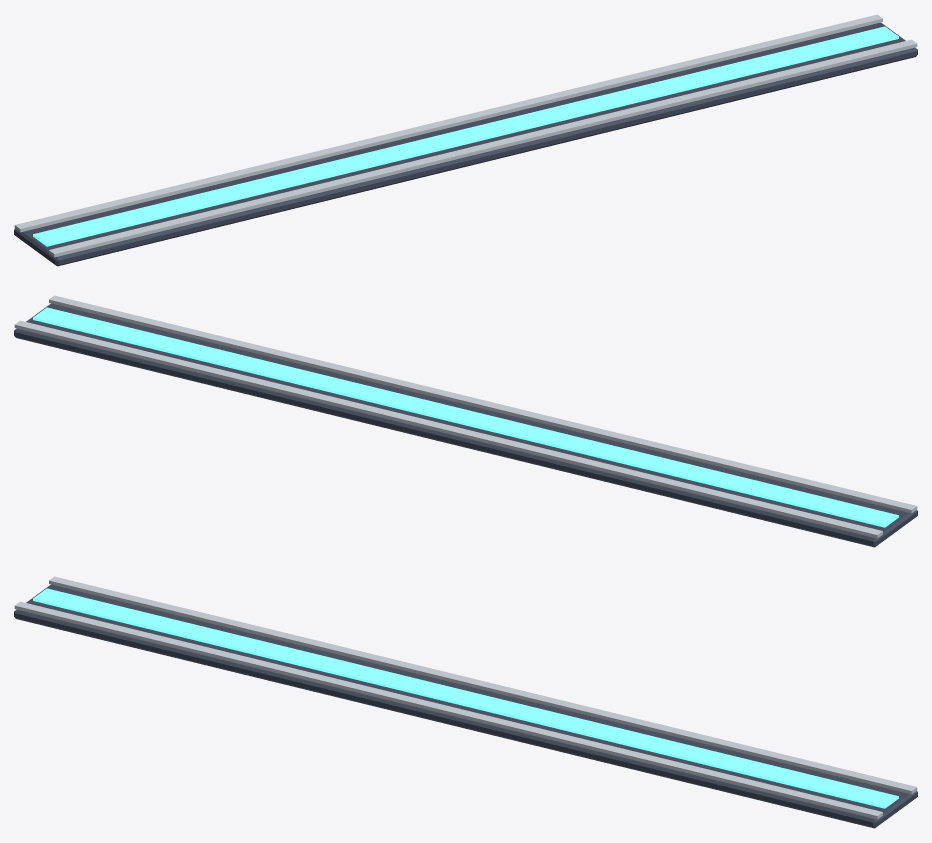
Rendered from LaneTrim.fbx.
3 views of the same model, one above another, from view 1: azimuth 30°, elevation 25°; view 2: azimuth 150°, elevation 25°; view 3: azimuth 330°, elevation 25° (orthographic).
Visible parts, largest first — view 1: LaneTrim, Neon_Cyan; view 2: LaneTrim, Neon_Cyan; view 3: LaneTrim, Neon_Cyan.
Part boxes in pixels (left/top/right/bottom): LaneTrim: left=14, top=14, right=917, bottom=266; Neon_Cyan: left=33, top=26, right=898, bottom=246; LaneTrim: left=14, top=295, right=917, bottom=547; Neon_Cyan: left=33, top=307, right=898, bottom=527; LaneTrim: left=14, top=576, right=917, bottom=828; Neon_Cyan: left=33, top=588, right=898, bottom=808.
Bounding box in the file's own units: 16 × 0.22 × 1.4.
Materials: 2 (1 with a texture image).
